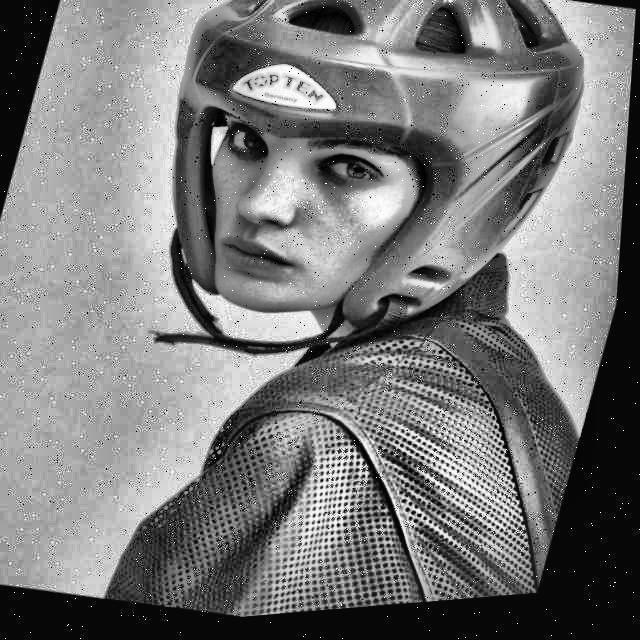Helmet: (90, 0, 621, 436)
